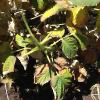Raspberry leaf: (61, 37, 79, 59), (45, 28, 66, 37)
